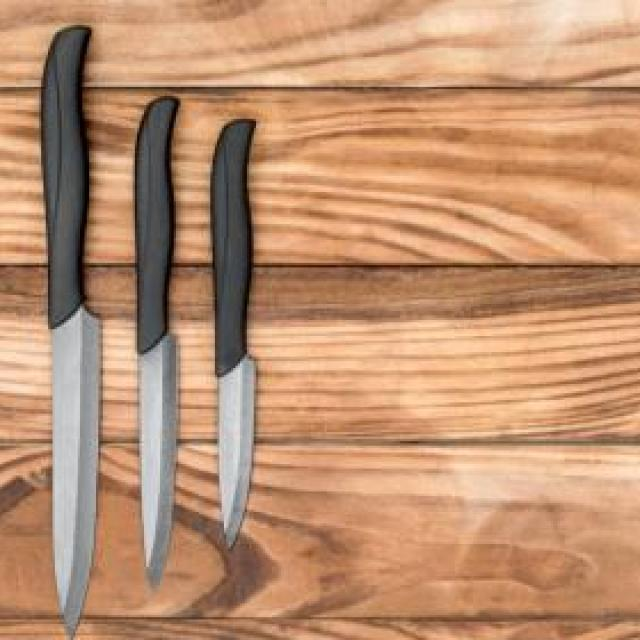knife: (39, 25, 105, 640), (205, 114, 268, 558), (134, 90, 185, 597)
